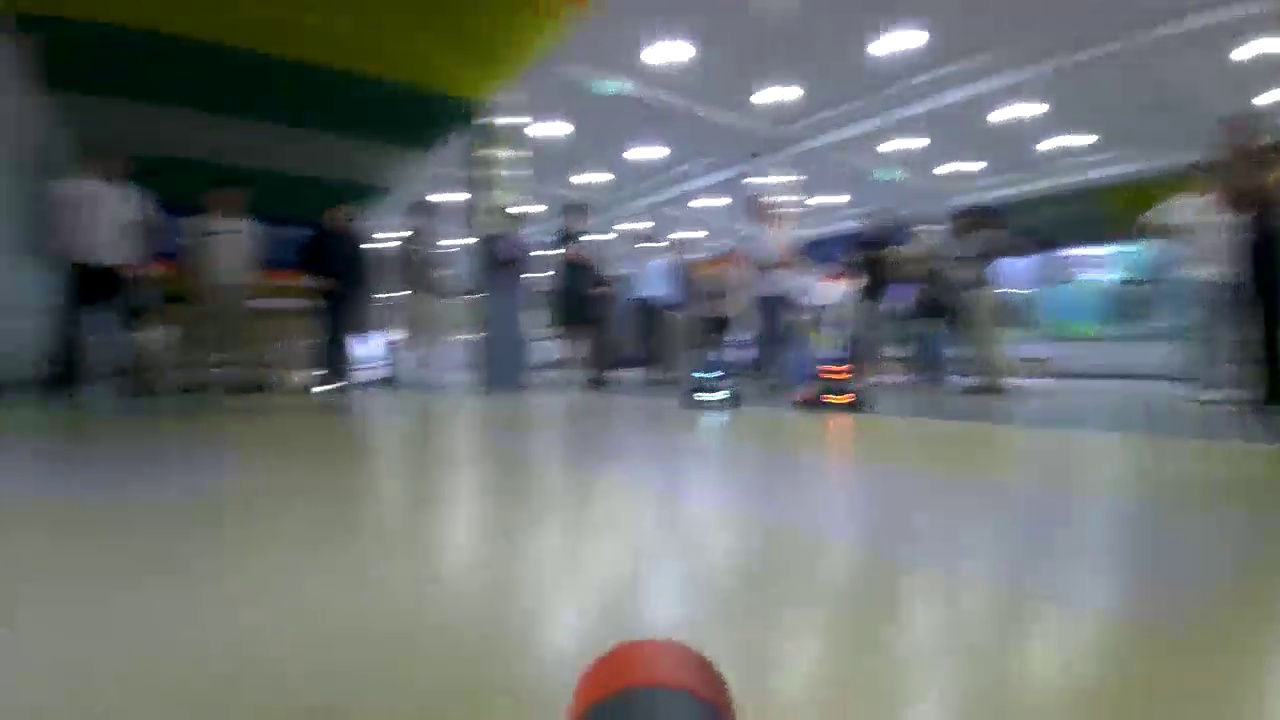robot: (800, 360, 869, 410), (686, 366, 743, 410)
